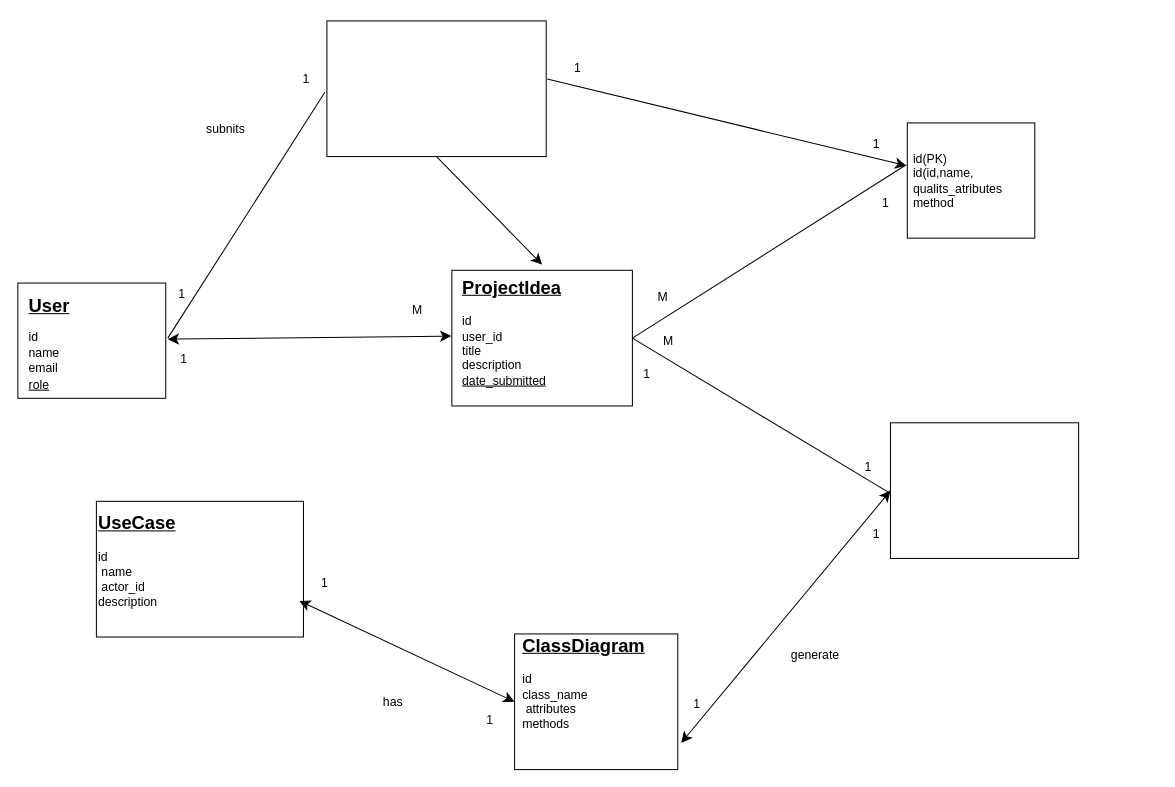
Image size: 1175x787. Some labels were removed from this diagram. The shapes that lost their labels are listed below. From the top down, each one's centre as x and y in pixels, then its label:
the point at 436,88: ArchitecturePattern id name description quality_attributes
the point at 984,490: ERDiagram id entity_name relationships cardinalities
